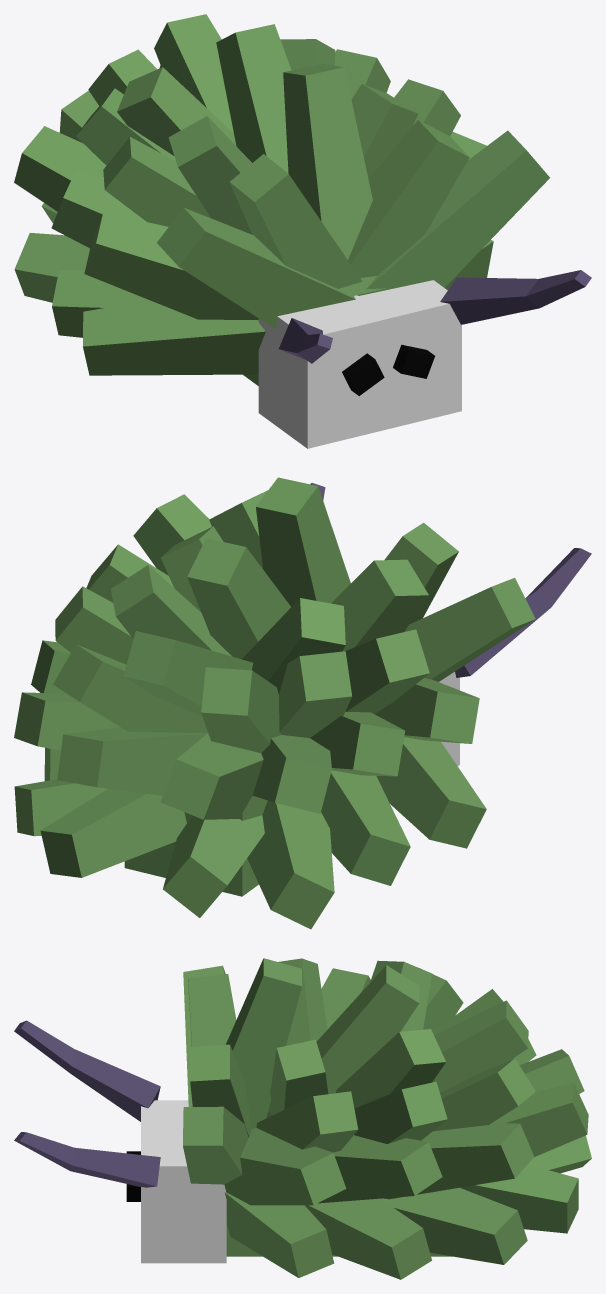
The model's file is LeafSheepModel.fbx.
The picture shows the model from 3 angles, top to bottom: view 1: azimuth 30°, elevation 25°; view 2: azimuth 150°, elevation 25°; view 3: azimuth 270°, elevation 25°; orthographic projection. The views are drawn at different scales.
Parts seen in each view (by area): view 1: group23_pasted__group17_pasted__pasted__group16_pasted__past; view 2: group23_pasted__group17_pasted__pasted__group16_pasted__past; view 3: group23_pasted__group17_pasted__pasted__group16_pasted__past.
Boxes of the visible parts, x1,y1,x2,y2 form: group23_pasted__group17_pasted__pasted__group16_pasted__past: (14,14,591,448); group23_pasted__group17_pasted__pasted__group16_pasted__past: (14,477,591,929); group23_pasted__group17_pasted__pasted__group16_pasted__past: (14,958,591,1279).
Size of the model in its own units: 3.53 by 2.53 by 4.94.
